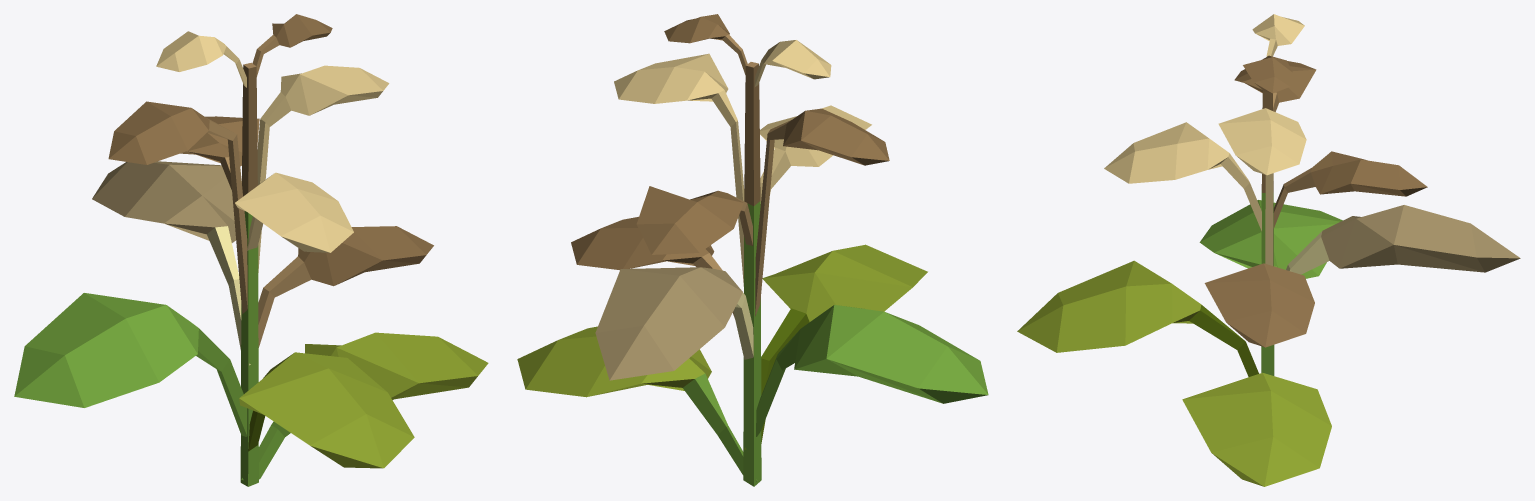
Rendered from EA_M_Env_Dry_Shrub_01b.fbx.
3 renders of one model, left to right at view 1: azimuth 30°, elevation 25°; view 2: azimuth 150°, elevation 25°; view 3: azimuth 270°, elevation 25°, orthographic. The views are drawn at different scales.
Parts seen in each view (by area): view 1: EA_M_Env_Dry_Shrub_01b_LOD0; view 2: EA_M_Env_Dry_Shrub_01b_LOD0; view 3: EA_M_Env_Dry_Shrub_01b_LOD0.
Boxes of the visible parts, x1,y1,x2,y2 form: EA_M_Env_Dry_Shrub_01b_LOD0: (14, 14, 488, 486); EA_M_Env_Dry_Shrub_01b_LOD0: (517, 14, 988, 486); EA_M_Env_Dry_Shrub_01b_LOD0: (1017, 14, 1520, 486).
Size of what is drawn, in the model's own units: 1.1 by 1.02 by 1.14.
